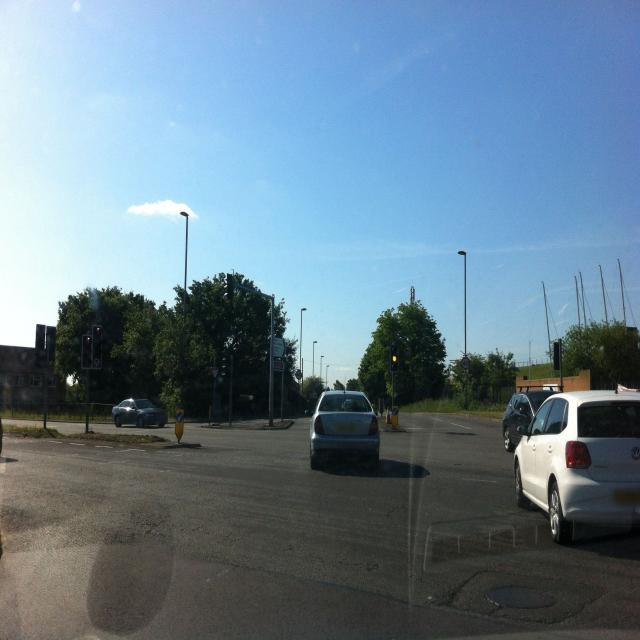car: (513, 386, 640, 545), (309, 389, 380, 469), (502, 384, 562, 452), (112, 397, 168, 429)
